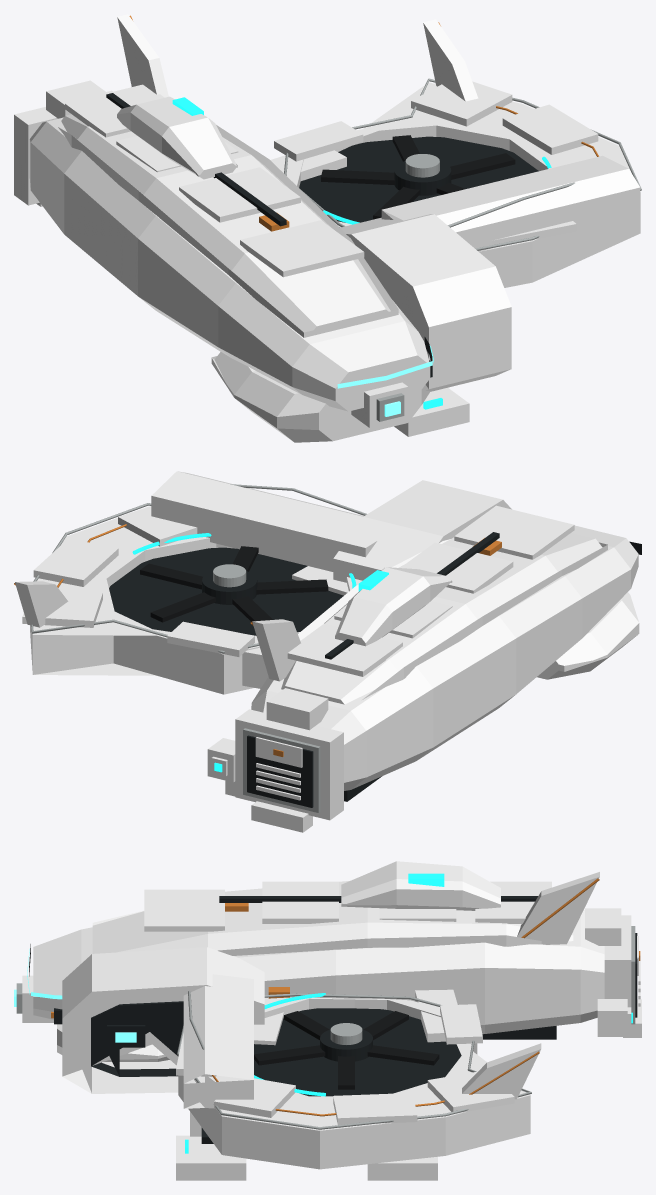
File: morrowgear-family-a-guard-v5.glb
3 renders of one model, top to bottom at view 1: azimuth 30°, elevation 25°; view 2: azimuth 150°, elevation 25°; view 3: azimuth 270°, elevation 25°, orthographic. The views are drawn at different scales.
Parts seen in each view (by area): view 1: F01_Fuselage, F02_UpperArmor, GRD_AegisShoulder.R, GRD_DuctBrow.R, W02_DuctWing.R, R02_InnerWell.R, GRD_ChinArmor, GRD_SensorSpine, F02_TopPanel_0, F02_TopPanel_1, W02_ArmorPanel_2.R, W02_ArmorPanel_3.R (+17 smaller); view 2: F01_Fuselage, W02_DuctWing.R, F02_UpperArmor, GRD_DuctBrow.R, R02_InnerWell.R, GRD_AegisShoulder.R, GRD_SensorSpine, V01_RearHousing, F02_TopPanel_0, GRD_ChinArmor, F02_TopPanel_3, F02_TopPanel_1 (+23 smaller); view 3: F01_Fuselage, W02_DuctWing.R, GRD_AegisShoulder.R, F02_UpperArmor, R02_InnerWell.R, GRD_DuctBrow.R, GRD_SensorSpine, GRD_ShoulderInset.R, F02_TopPanel_0, T02_CenterFin.R, F02_TopPanel_1, GG_FrontFoot.R (+28 smaller).
Boxes of the visible parts, <box> form: F01_Fuselage: <box>29,117,430,411</box>; F02_UpperArmor: <box>58,114,398,337</box>; GRD_AegisShoulder.R: <box>340,214,511,391</box>; GRD_DuctBrow.R: <box>381,155,640,251</box>; W02_DuctWing.R: <box>286,82,640,287</box>; R02_InnerWell.R: <box>299,136,538,222</box>; GRD_ChinArmor: <box>211,352,430,442</box>; GRD_SensorSpine: <box>117,96,237,179</box>; F02_TopPanel_0: <box>240,220,364,277</box>; F02_TopPanel_1: <box>179,167,300,222</box>; W02_ArmorPanel_2.R: <box>502,104,598,154</box>; W02_ArmorPanel_3.R: <box>411,81,512,126</box>; F01_Fuselage: <box>251,525,638,790</box>; W02_DuctWing.R: <box>30,507,362,694</box>; F02_UpperArmor: <box>281,532,607,704</box>; GRD_DuctBrow.R: <box>151,471,386,571</box>; R02_InnerWell.R: <box>109,547,343,635</box>; GRD_AegisShoulder.R: <box>333,480,511,582</box>; GRD_SensorSpine: <box>335,567,452,646</box>; V01_RearHousing: <box>235,709,343,820</box>; F02_TopPanel_0: <box>454,505,574,559</box>; GRD_ChinArmor: <box>537,592,639,679</box>; F02_TopPanel_3: <box>287,623,402,676</box>; F02_TopPanel_1: <box>400,542,513,593</box>; F01_Fuselage: <box>33,909,604,1034</box>; W02_DuctWing.R: <box>178,997,530,1169</box>; GRD_AegisShoulder.R: <box>62,947,264,1093</box>; F02_UpperArmor: <box>92,881,573,955</box>; R02_InnerWell.R: <box>254,1008,461,1096</box>; GRD_DuctBrow.R: <box>183,974,253,1108</box>; GRD_SensorSpine: <box>341,861,500,910</box>; GRD_ShoulderInset.R: <box>91,1001,183,1076</box>; F02_TopPanel_0: <box>144,889,224,931</box>; T02_CenterFin.R: <box>517,872,599,944</box>; F02_TopPanel_1: <box>262,881,338,923</box>; GG_FrontFoot.R: <box>176,1135,246,1180</box>.
Size of what is drawn, in the model's own units: 4.8 by 2.63 by 5.9.
